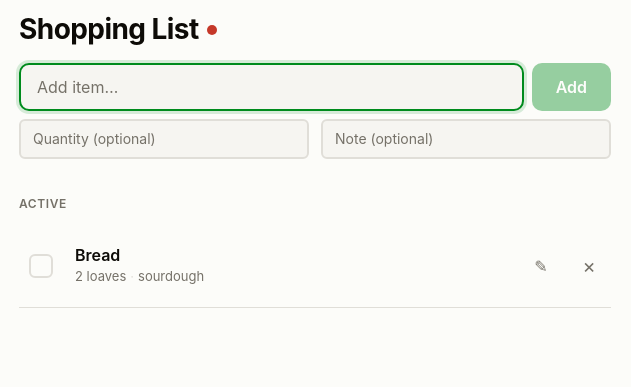
Scenario: Task 4 — Inline edit mode › AC1: tap edit button switches to edit mode with pre-filled inputs
The image size is (631, 387).
Check: the text "Bread" is shown, box x1=75 y1=245 x2=120 y2=265
Click the button named "edit bread" at [541, 266], box x1=519 y1=244 x2=563 y2=288
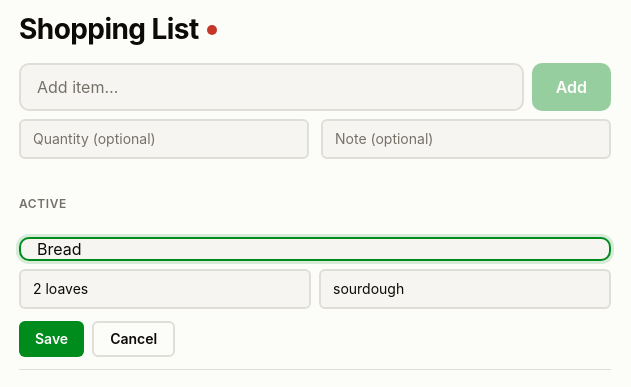
Check: the field named "Edit item name" holds "Bread", box x1=19 y1=237 x2=611 y2=261
Check: the field named "Edit quantity" holds "2 loaves", box x1=19 y1=269 x2=311 y2=309
Check: the field named "Edit note" holds "sourdough", box x1=319 y1=269 x2=611 y2=309
